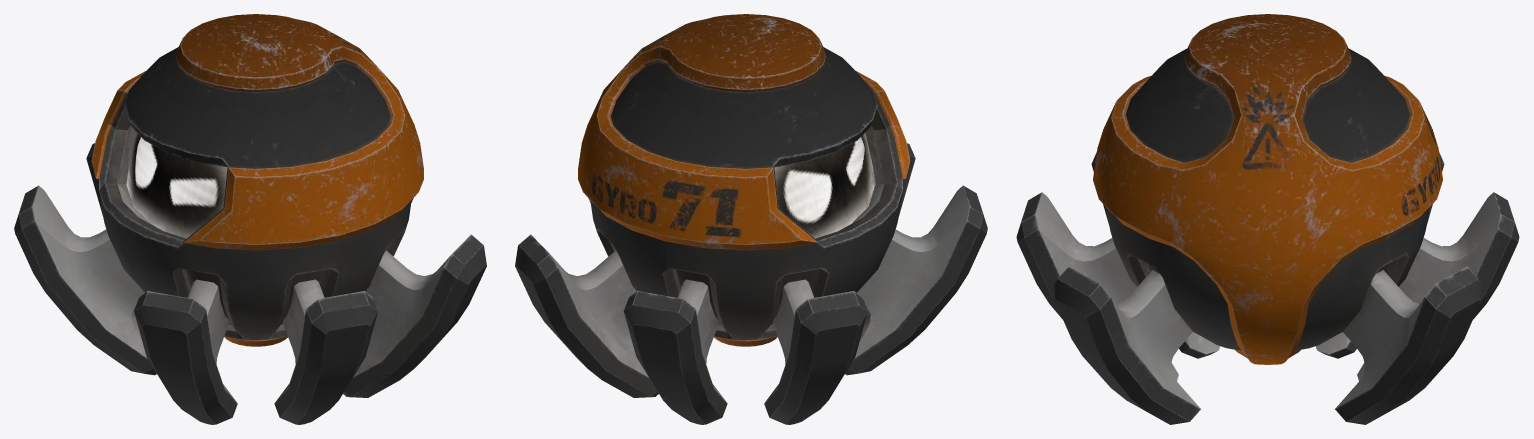
Rendered from bomb-compressed.glb.
3 views of the same model, side by side, from view 1: azimuth 30°, elevation 25°; view 2: azimuth 150°, elevation 25°; view 3: azimuth 270°, elevation 25° (orthographic). The views are drawn at different scales.
Parts seen in each view (by area): view 1: Gyrobomb_Gyrobomb_0; view 2: Gyrobomb_Gyrobomb_0; view 3: Gyrobomb_Gyrobomb_0.
Boxes of the visible parts, bbox=[...] form: Gyrobomb_Gyrobomb_0: bbox=[14, 14, 486, 424]; Gyrobomb_Gyrobomb_0: bbox=[515, 14, 987, 424]; Gyrobomb_Gyrobomb_0: bbox=[1016, 14, 1519, 424].
Bounding box in the file's own units: 0.9599 × 0.9837 × 1.24.
Materials: 1 (1 with a texture image).
